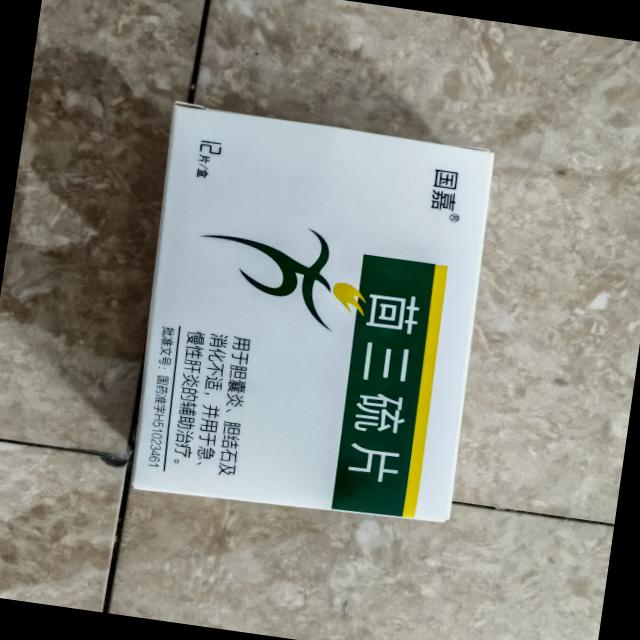box: (102, 90, 515, 542)
